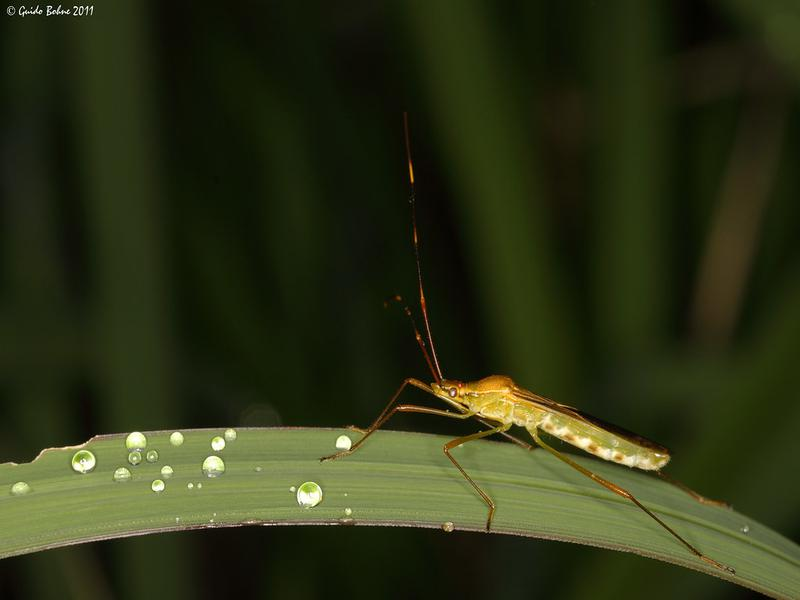Rice_earhead_bug: (358, 330, 693, 502)
